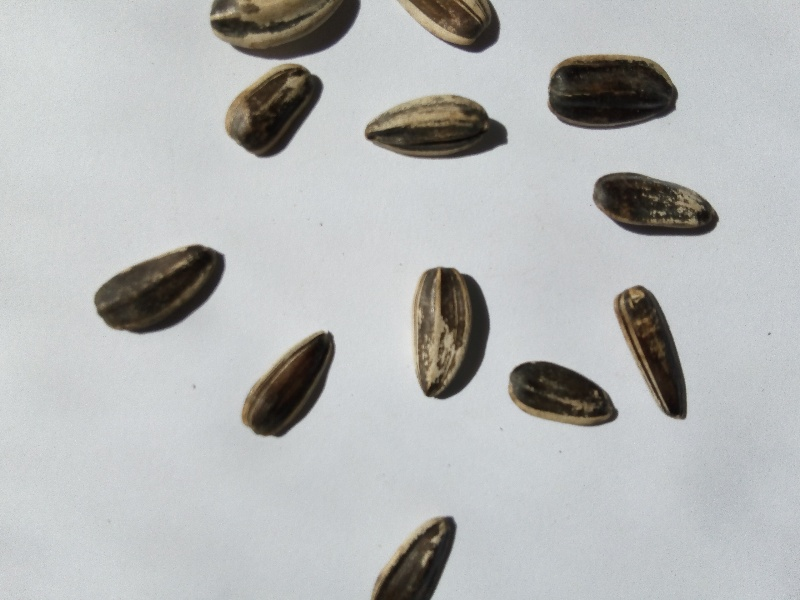girasol: (78, 235, 238, 344), (225, 324, 347, 448), (543, 45, 689, 137), (406, 257, 495, 405), (359, 87, 515, 168), (222, 60, 330, 164), (502, 348, 625, 438), (583, 168, 726, 244)
